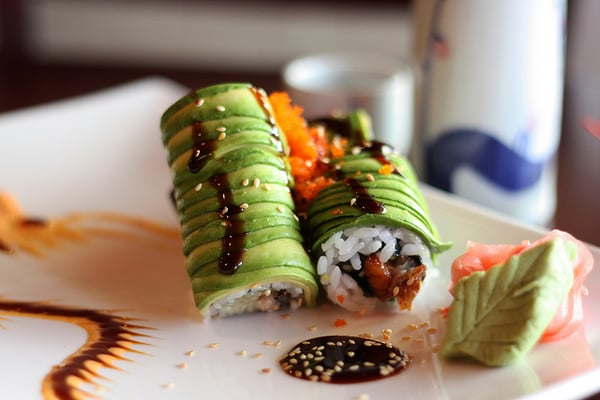pizza: (418, 0, 566, 228)
